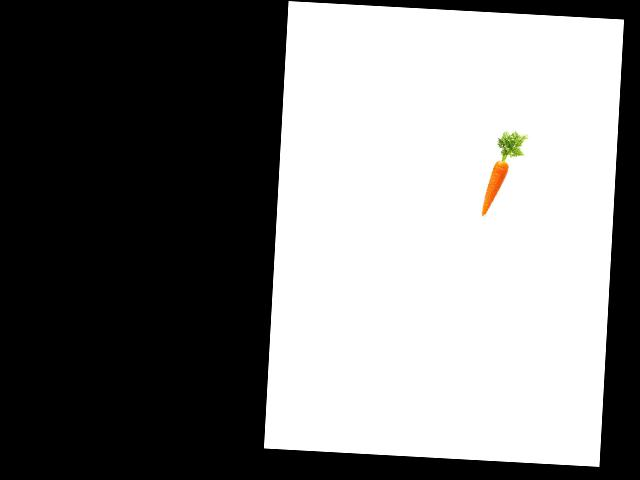carrot: (479, 158, 510, 220)
